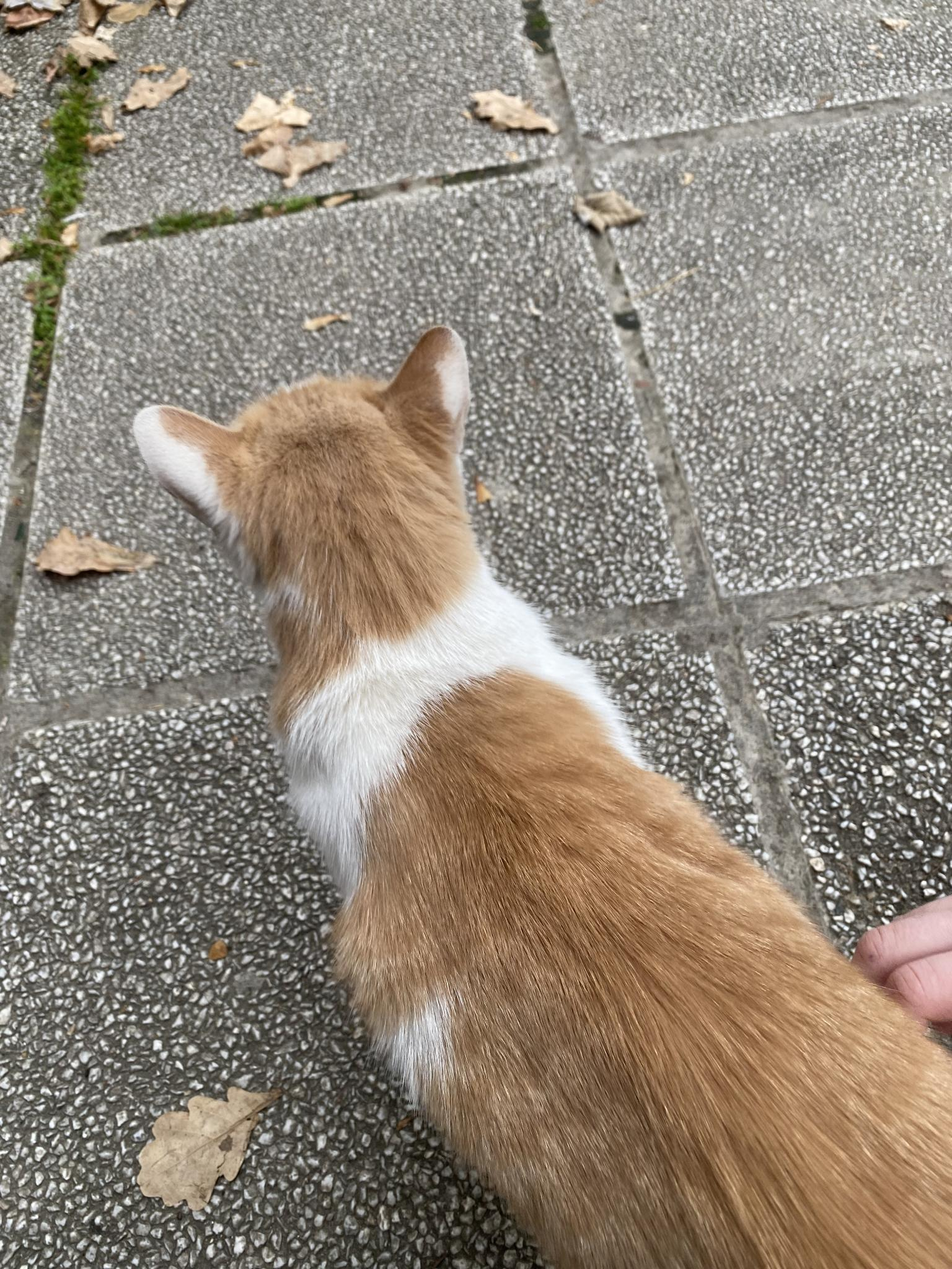macka: (132, 323, 952, 1269)
